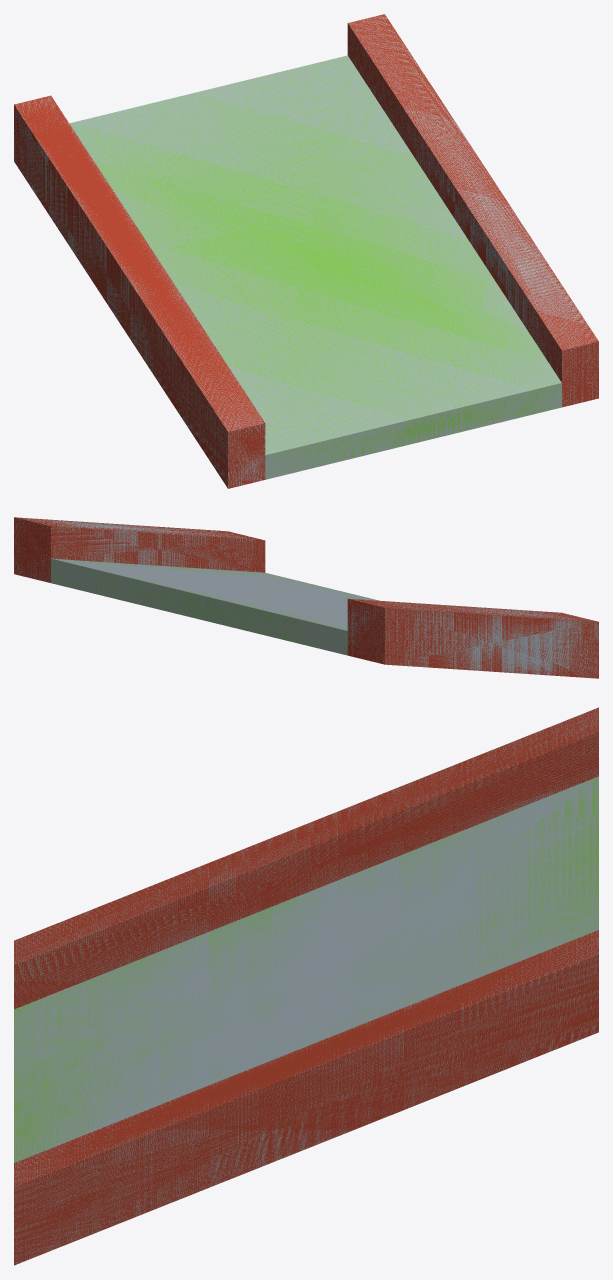
Rendered from Ramp_3_01.obj.
3 views of the same model, one above another, from view 1: azimuth 30°, elevation 25°; view 2: azimuth 150°, elevation 25°; view 3: azimuth 270°, elevation 25° (orthographic). The views are drawn at different scales.
Visible parts, largest first — view 1: Mesh1 Ramp_3 Model; view 2: Mesh1 Ramp_3 Model; view 3: Mesh1 Ramp_3 Model.
Part boxes in pixels (<box>): Mesh1 Ramp_3 Model: <box>14,14,598,488</box>; Mesh1 Ramp_3 Model: <box>14,517,598,678</box>; Mesh1 Ramp_3 Model: <box>14,707,598,1265</box>.
Bounding box in the file's own units: 3 × 1.76 × 3.
